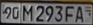0: (12, 5, 20, 20)
2: (35, 5, 45, 22)
3: (54, 5, 65, 22)
9: (44, 5, 54, 22), (2, 6, 12, 21)
A: (75, 5, 87, 22)
F: (64, 5, 75, 22)
M: (22, 4, 34, 22)
